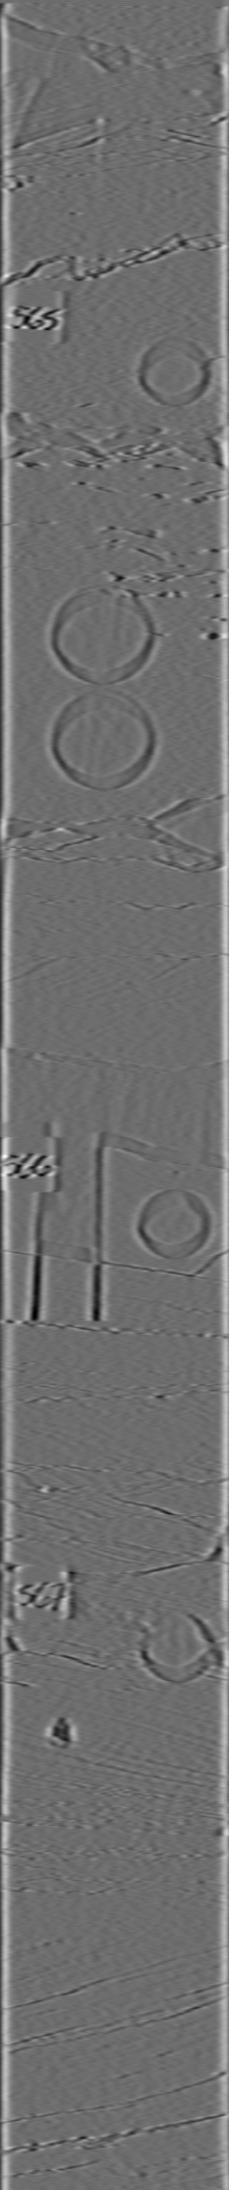hplug: (133, 1601, 223, 1689), (131, 328, 221, 413), (128, 1182, 216, 1265)
scal: (45, 689, 165, 796), (45, 578, 158, 684)
vplug: (24, 1141, 110, 1323)
